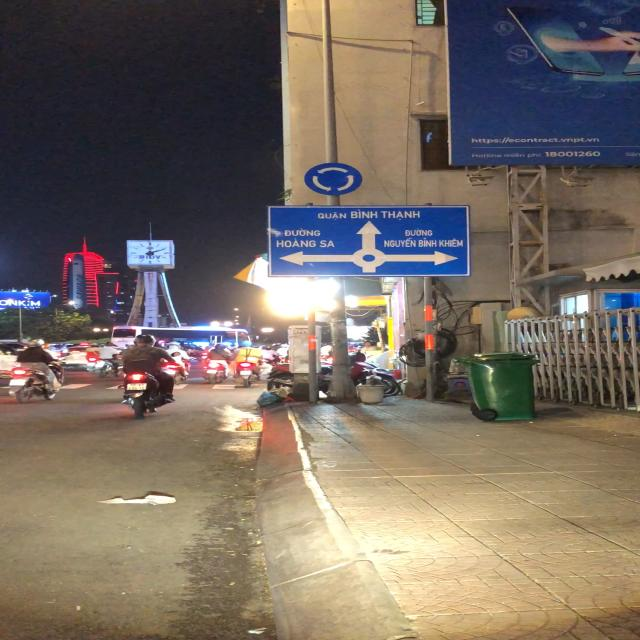Bien bao noi giao nhau chay theo vong xuyen: (302, 160, 366, 195)
